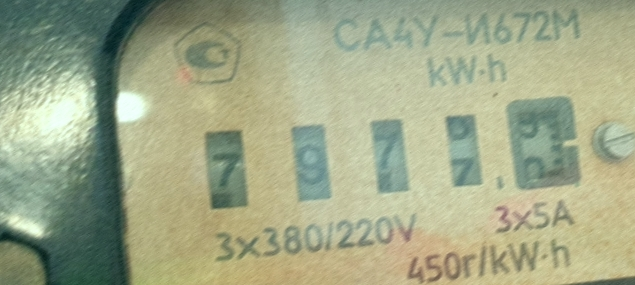0: (520, 152, 547, 184)
7: (206, 147, 246, 196), (446, 148, 481, 193), (371, 130, 405, 174)
9: (292, 140, 329, 191), (513, 108, 547, 144)
screen: (187, 71, 601, 249)
